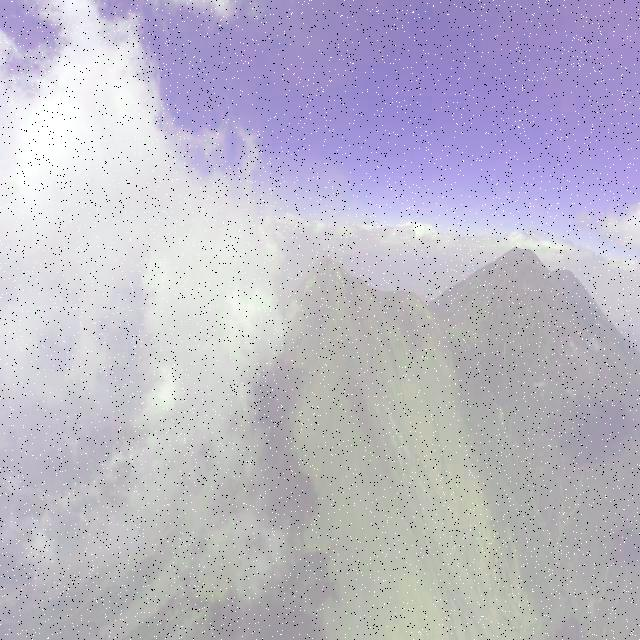Summit: (278, 251, 368, 311)
